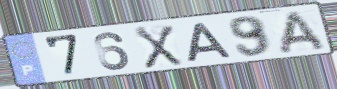6: (92, 31, 132, 71)
7: (42, 33, 82, 78)
9: (227, 14, 276, 58)
A: (278, 10, 329, 56), (185, 21, 235, 64)
X: (132, 24, 184, 70)
